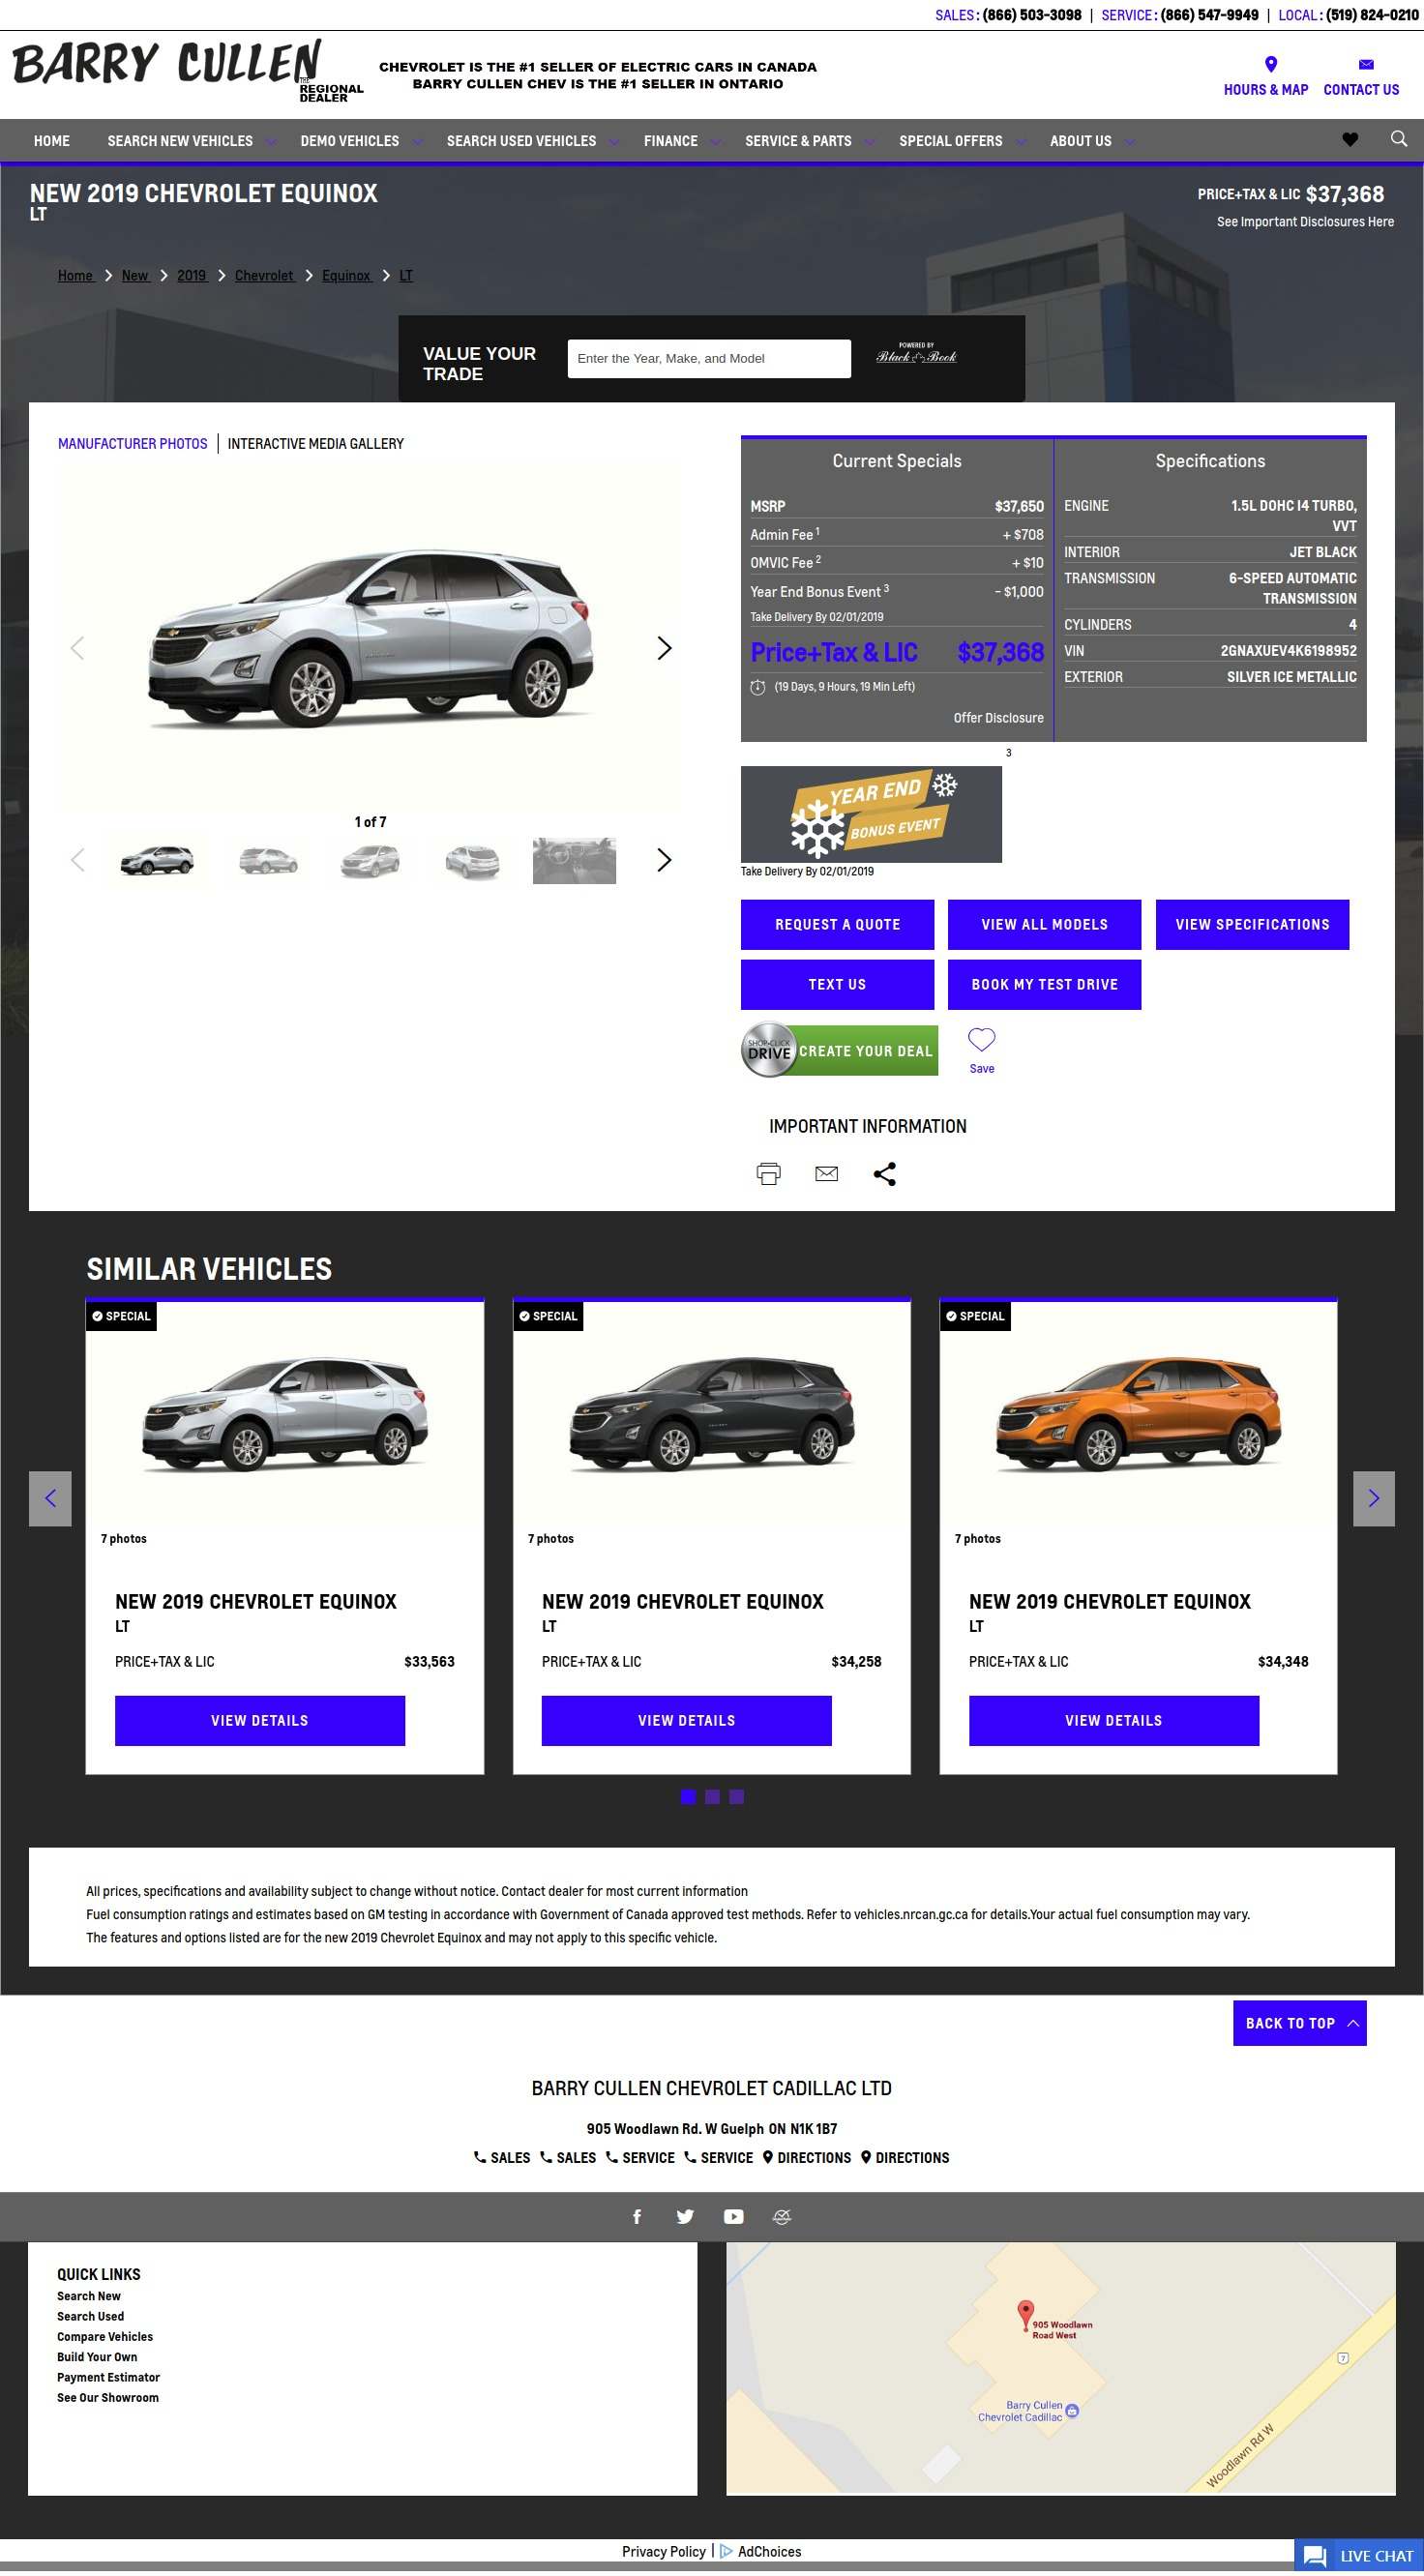car: (654, 845, 677, 875)
